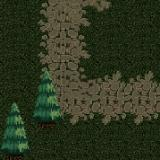Obstacle: (0, 126, 31, 160), (31, 98, 61, 129)
